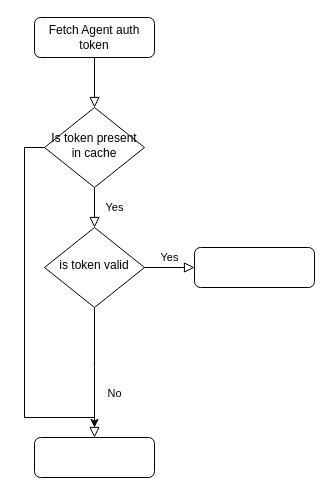
This 332x495 diagram has some shape labels left out. Here are the shapes that lost their labels. From the top down, the centre of each, then its label:
At (254,267): "Return cached token".
At (94,457): "Fetch new Token and return it".
